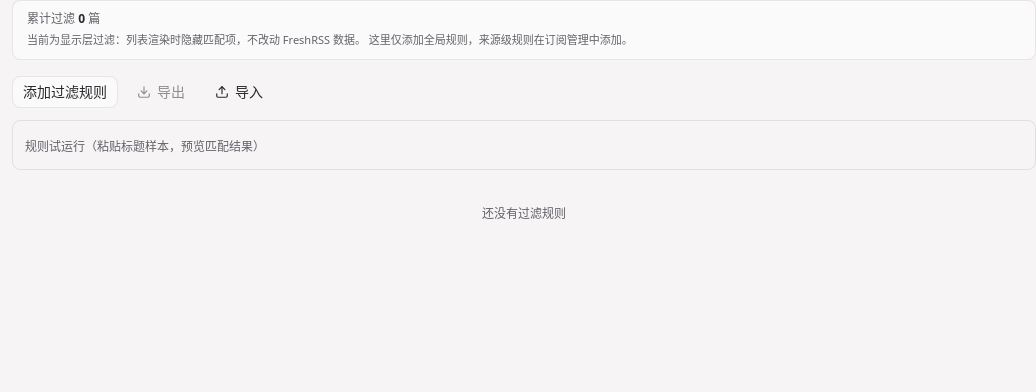
FIX-012 运行时：组合态 Enter 不加规则，非组合 Enter 正常加 › FilterRulesSection：isComposing Enter 仅上屏候选词；随后的普通 Enter 才添加规则
Click the button "添加过滤规则" at (65, 92), box [12,76,118,108]
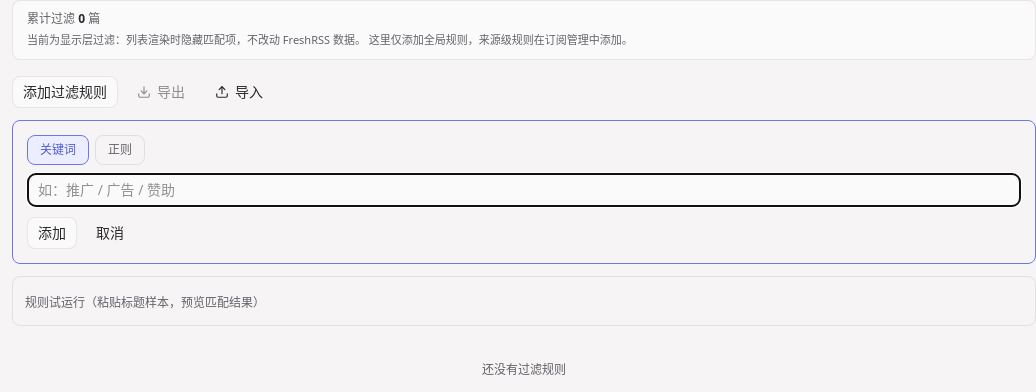
Type "广告" into the field named "规则内容" at (524, 190), box [27,173,1021,207]
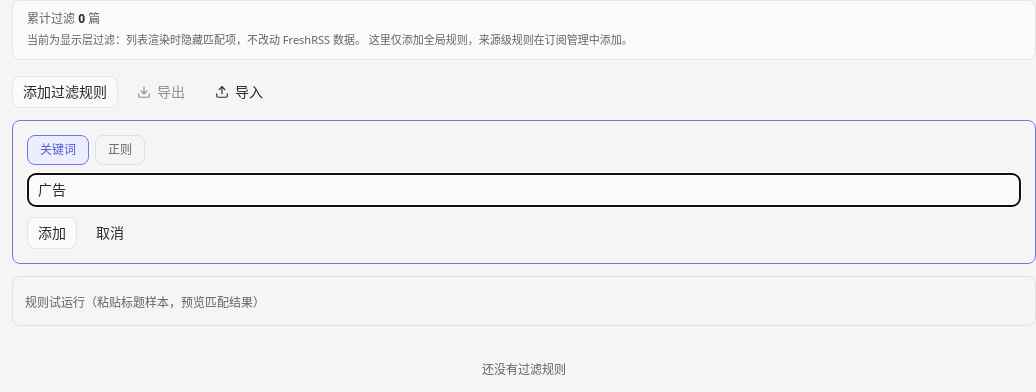
Note: 输入法组合中的 Enter（确认候选词）→ 不添加规则，对话框保持打开。
Press Enter in the field named "规则内容", box [27,173,1021,207]
Note: 组合结束后（isComposing 缺省 false）的 Enter → 正常添加并关闭。
Press Enter in the field named "规则内容", box [27,173,1021,207]
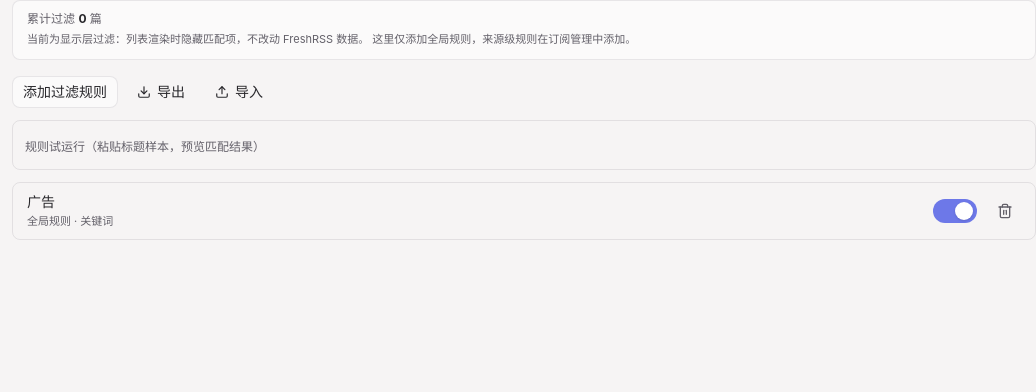
Check: the field labelled "规则内容" is gone
